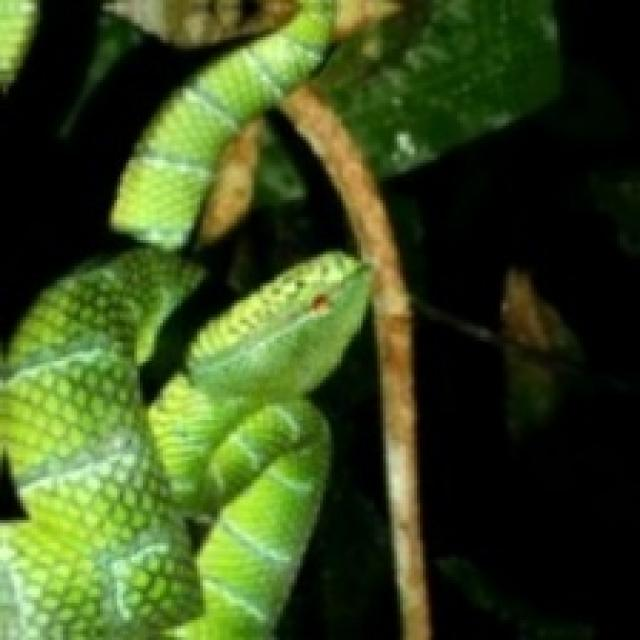north ph temple pitviper: (0, 0, 426, 637)
